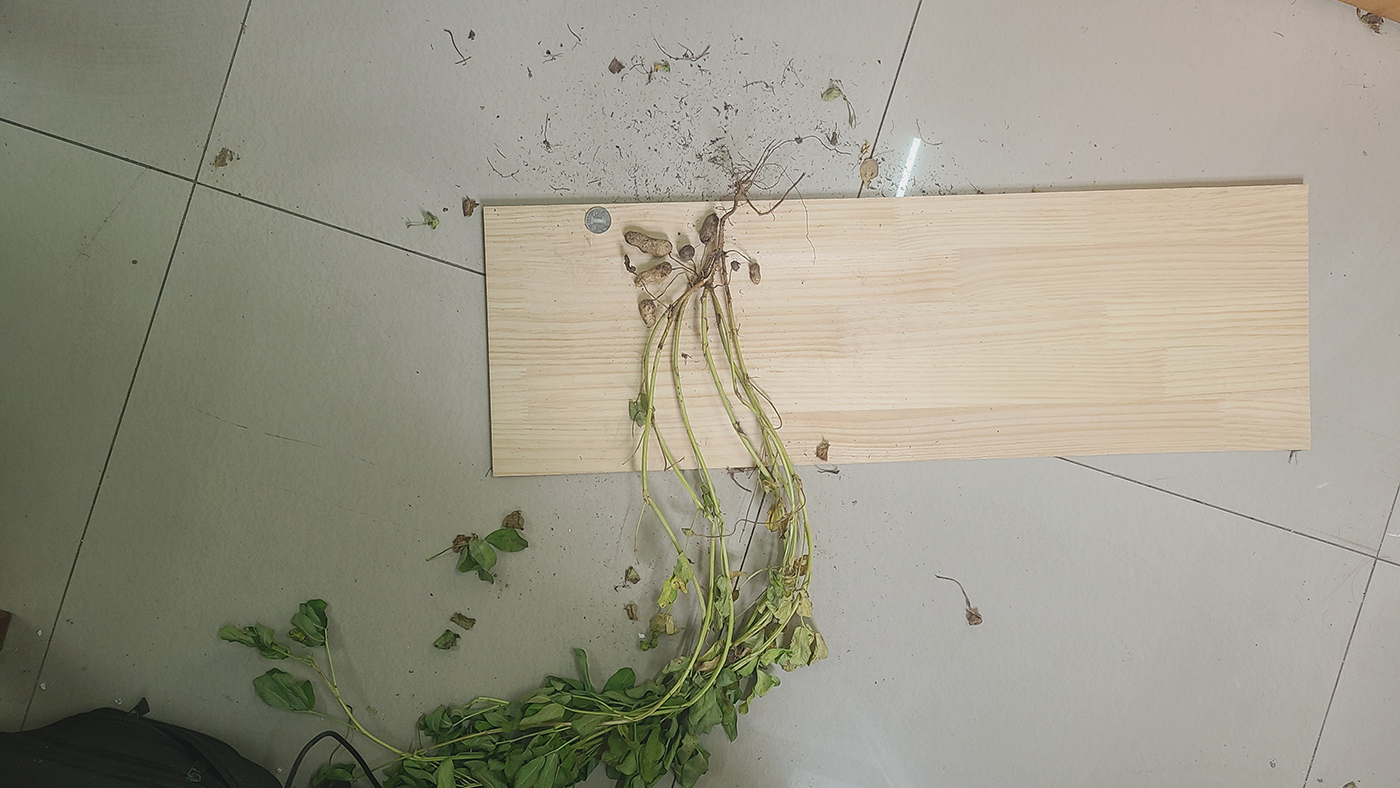h: (640, 300, 658, 328)
l: (626, 230, 671, 257), (634, 262, 672, 287), (698, 213, 719, 243), (749, 264, 762, 285), (679, 246, 695, 261), (625, 254, 636, 273), (730, 261, 741, 272)
